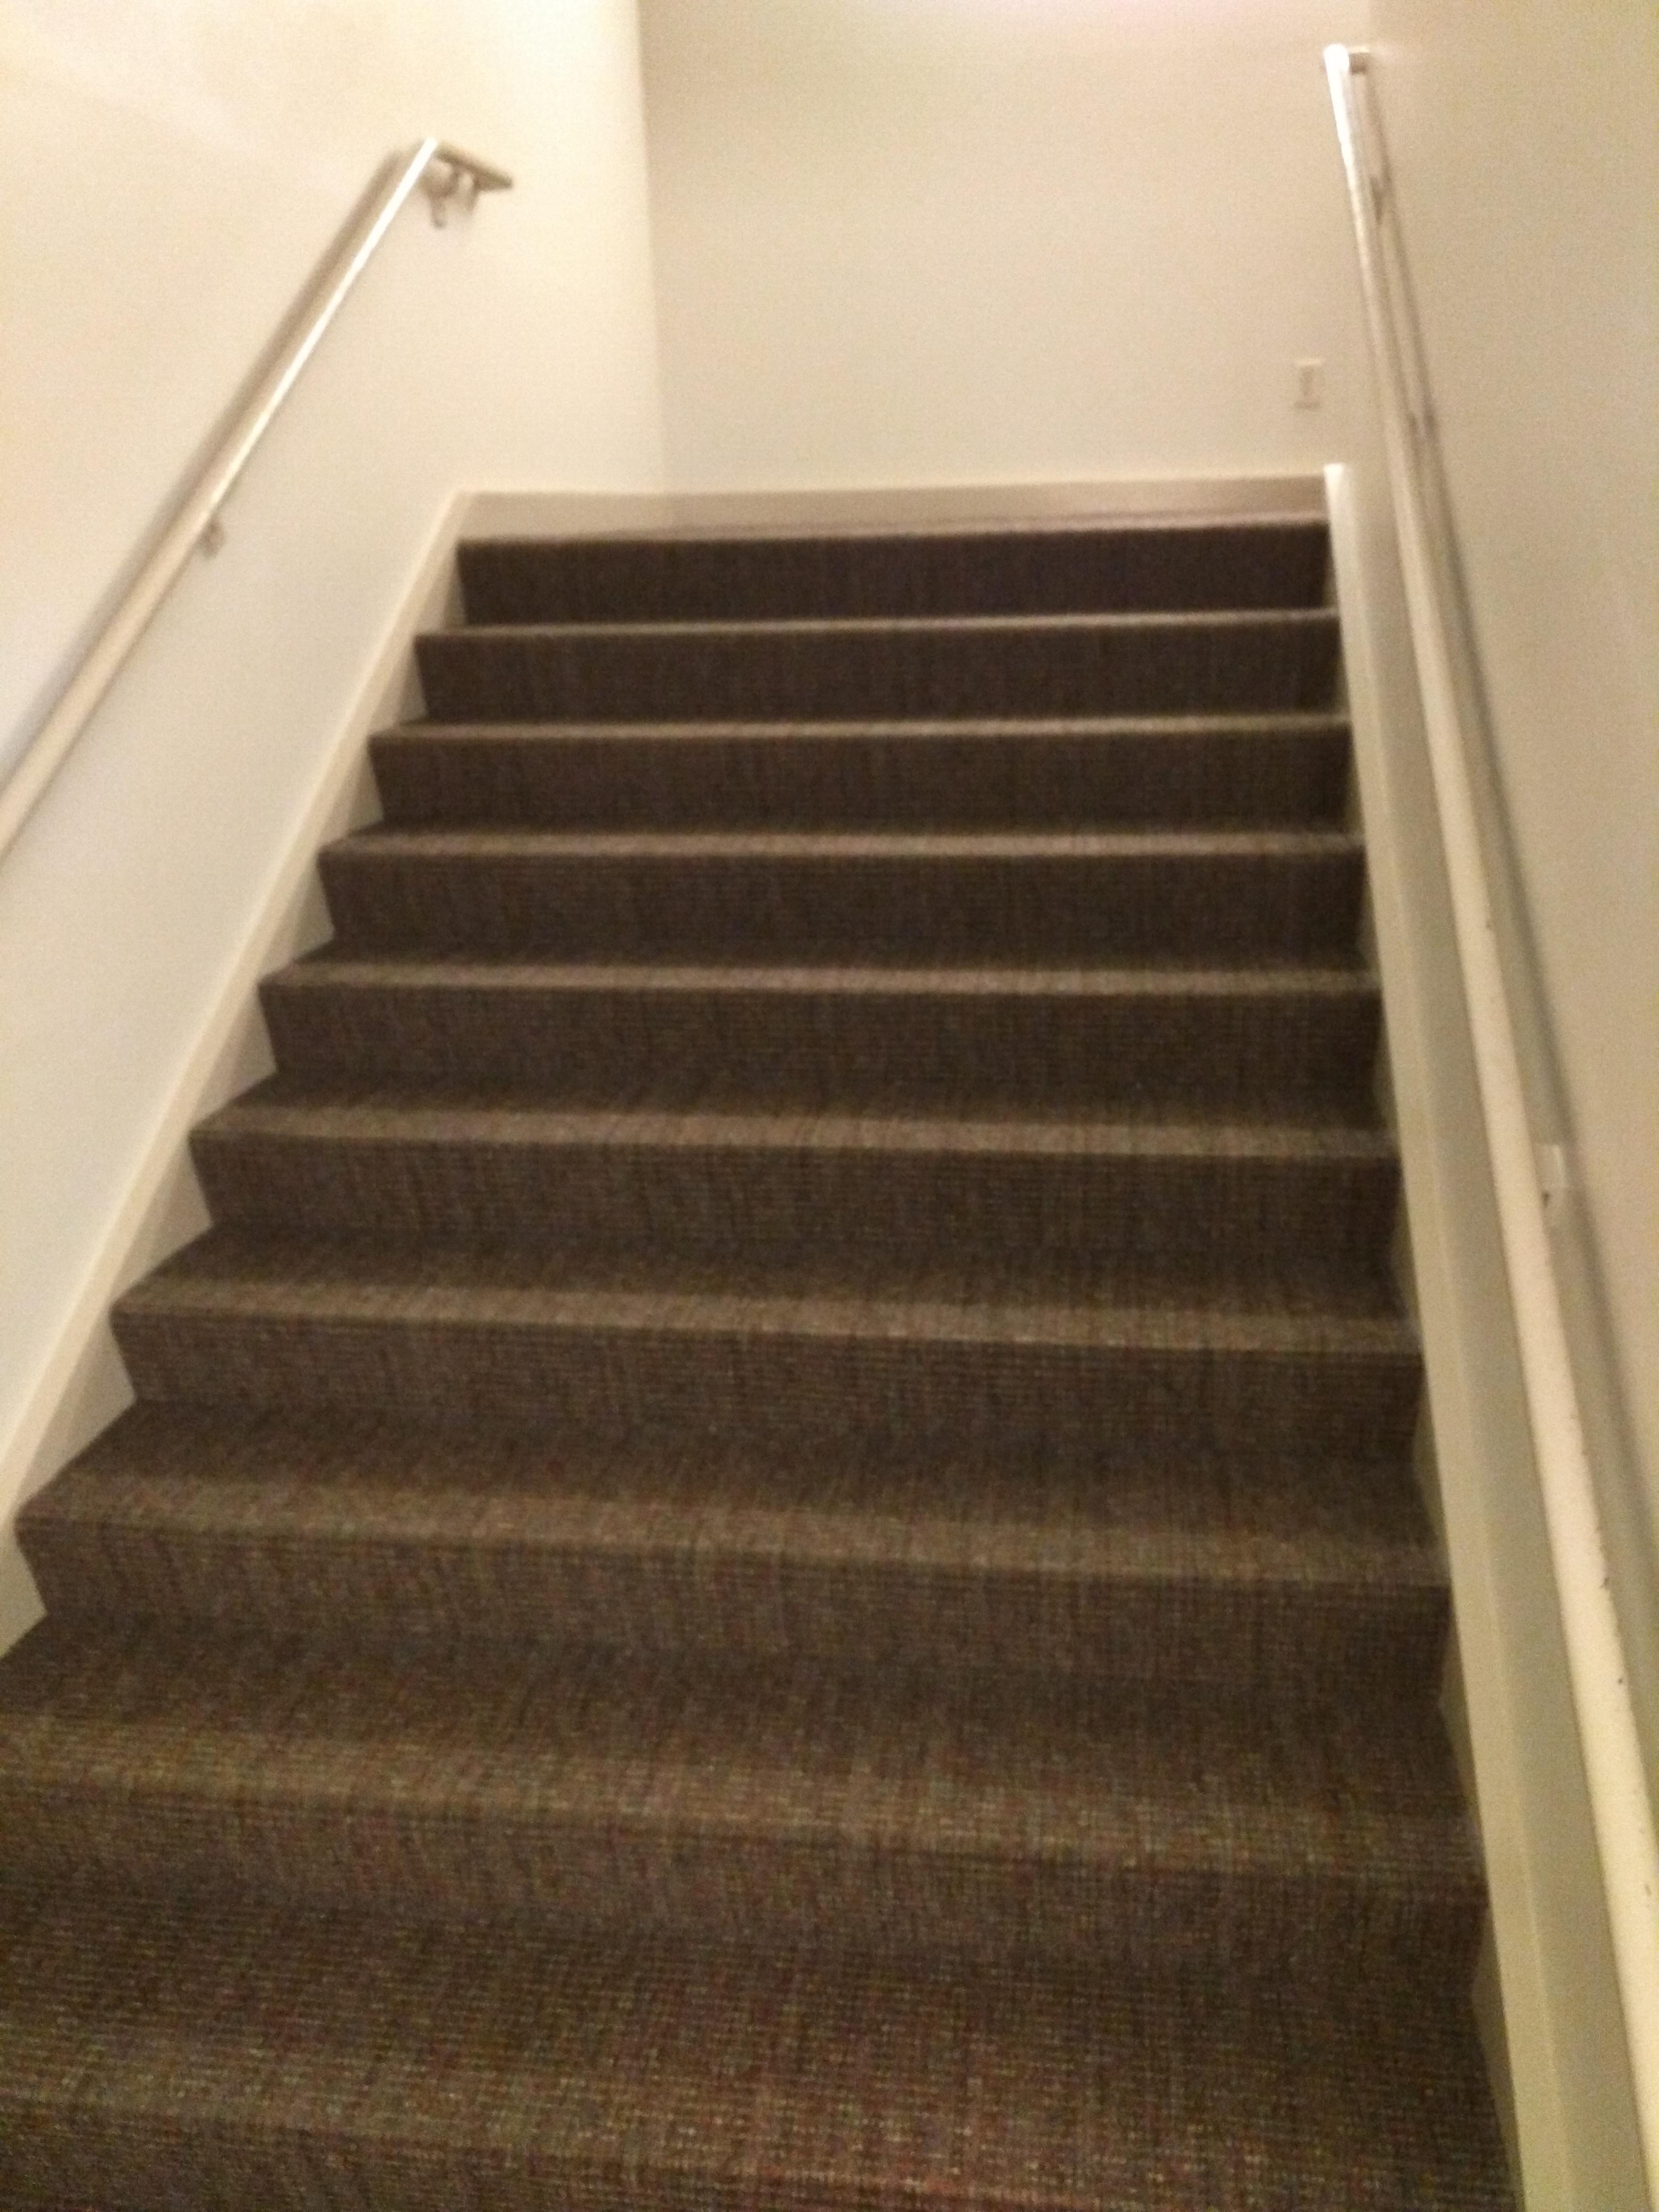stairs_up: (5, 442, 1553, 2059)
